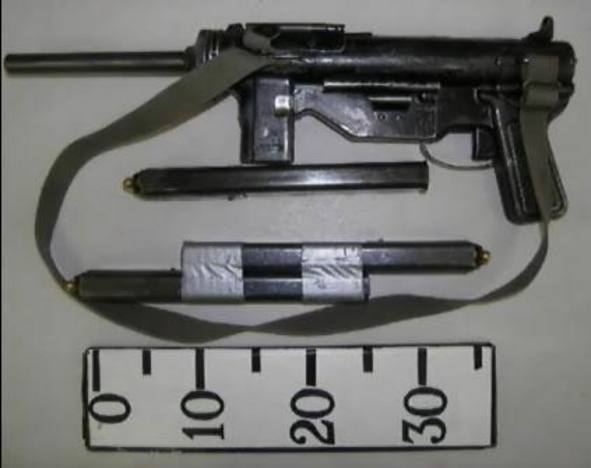rifle: (6, 25, 566, 314)
